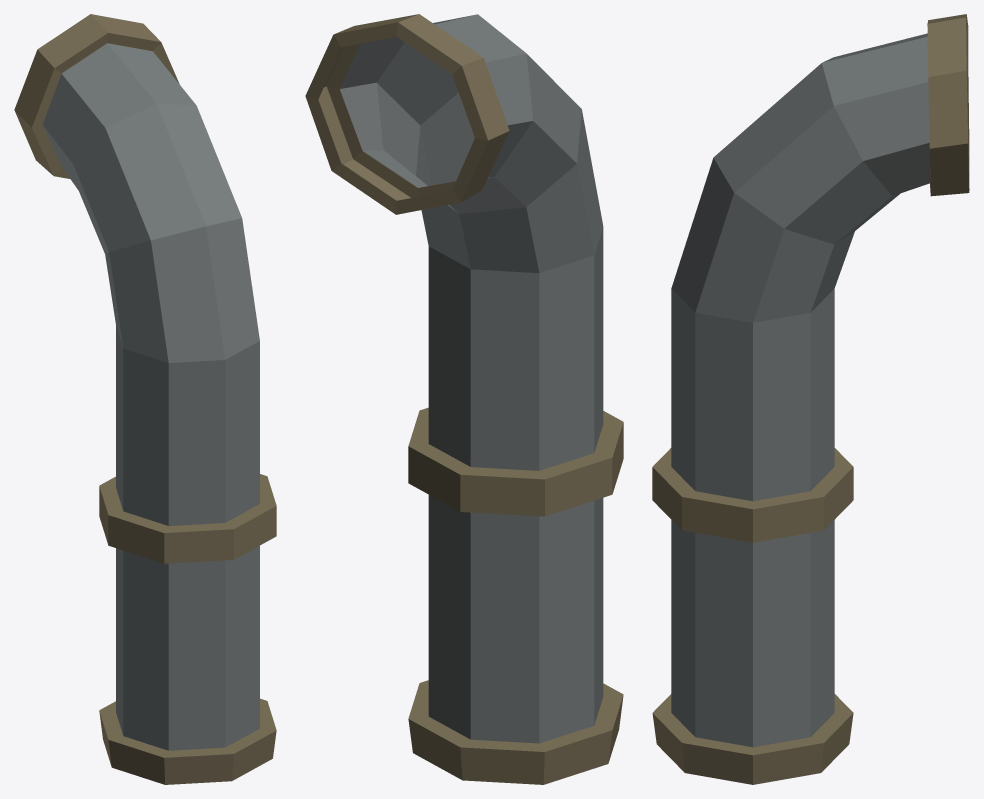
The model's file is tuberia_3.fbx.
3 renders of one model, left to right at view 1: azimuth 30°, elevation 25°; view 2: azimuth 150°, elevation 25°; view 3: azimuth 270°, elevation 25°, orthographic. The views are drawn at different scales.
Parts seen in each view (by area): view 1: Tuberia.002; view 2: Tuberia.002; view 3: Tuberia.002.
Boxes of the visible parts, x1=… form: Tuberia.002: x1=14, y1=14, x2=276, y2=784; Tuberia.002: x1=305, y1=14, x2=623, y2=784; Tuberia.002: x1=652, y1=14, x2=969, y2=784.
Bounding box in the file's own units: 58.59 × 234 × 92.36.
